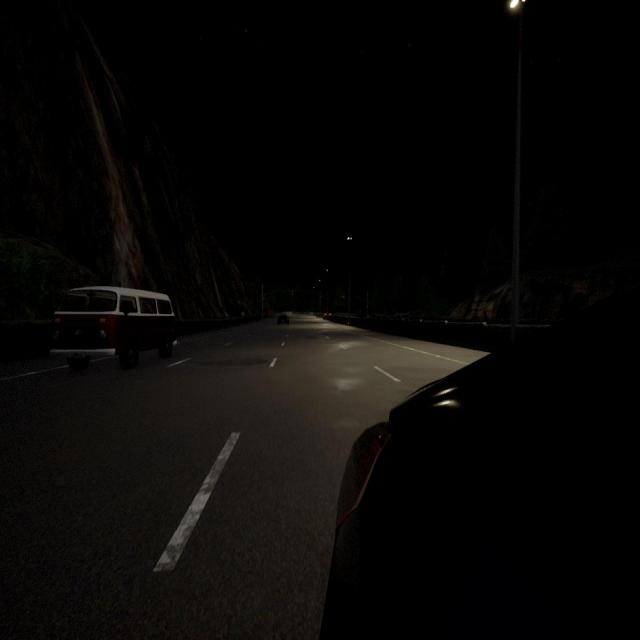Vehicle: (316, 287, 640, 640), (50, 285, 179, 370), (277, 314, 289, 326)
traffic_light: (343, 296, 344, 298)
